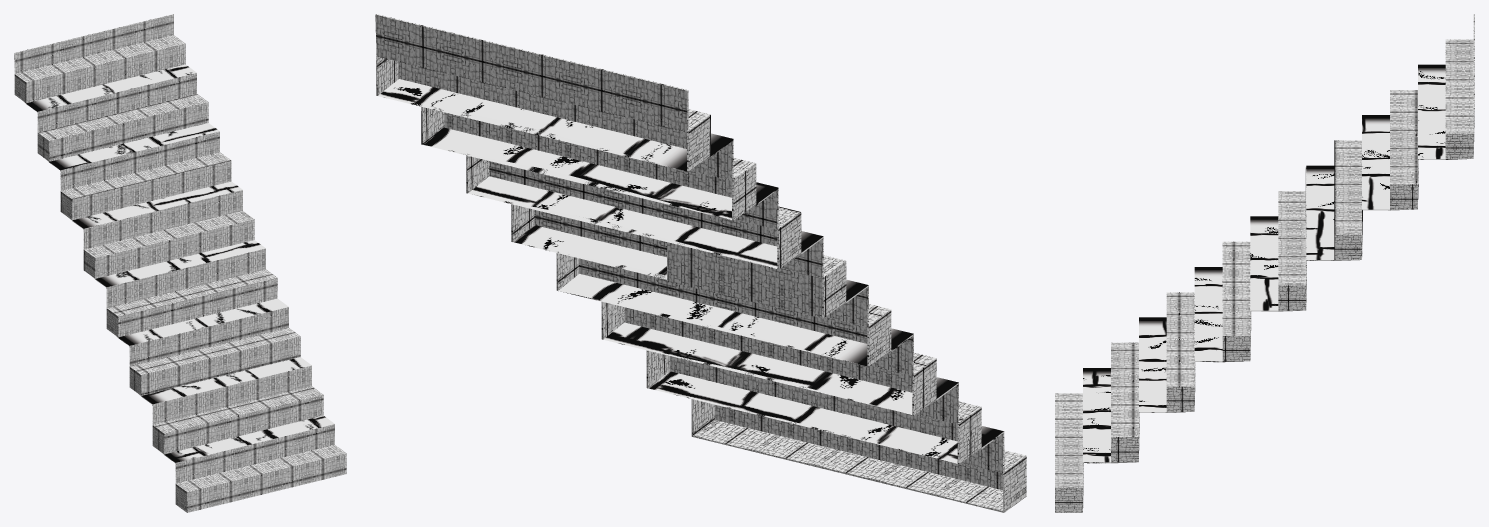
File: stairs.fbx
The picture shows the model from 3 angles, left to right: view 1: azimuth 30°, elevation 25°; view 2: azimuth 150°, elevation 25°; view 3: azimuth 270°, elevation 25°; orthographic projection. The views are drawn at different scales.
Parts seen in each view (by area): view 1: MapBase.001; view 2: MapBase.001; view 3: MapBase.001.
Boxes of the visible parts, x1,y1,x2,y2 form: MapBase.001: [14, 14, 346, 512]; MapBase.001: [375, 14, 1026, 512]; MapBase.001: [1055, 14, 1474, 512].
Bounding box in the file's own units: 200 × 400 × 376.
2 materials, 2 textured.
